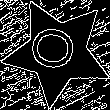O_E: (29, 27, 86, 77)
